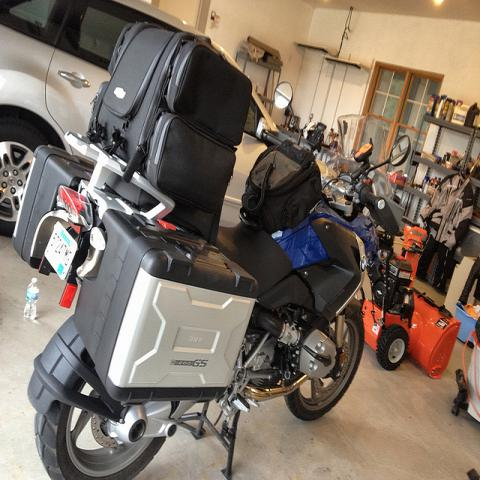car: (0, 0, 281, 238)
motorcycle: (24, 217, 368, 474)
